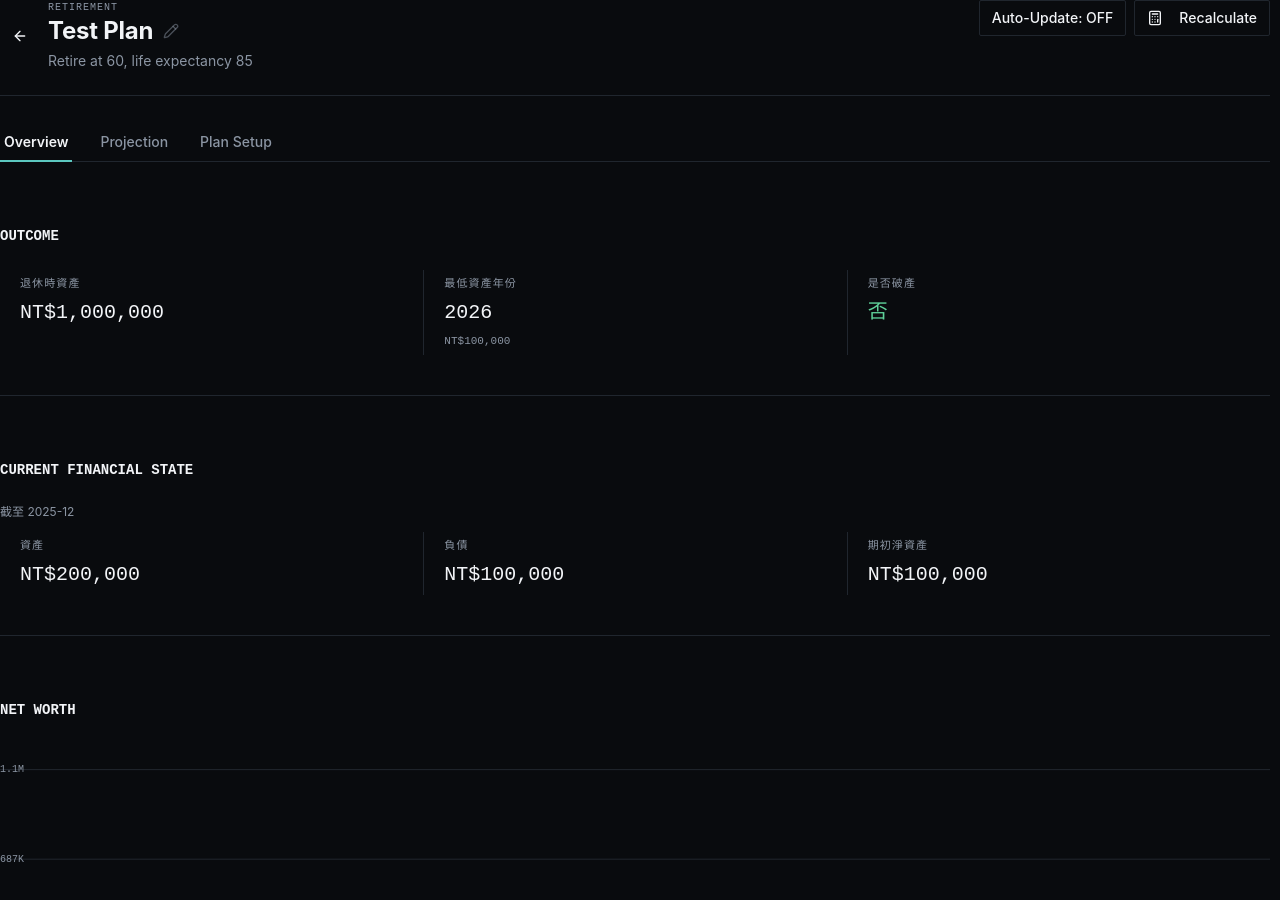
Test: RetirementPlanForm - Scenario Workspace › shows plan inflation as the growth default when the expense dialog opens
Press the mouse on the tab "Plan Setup" at point(236, 145), box [196,128,276,162]
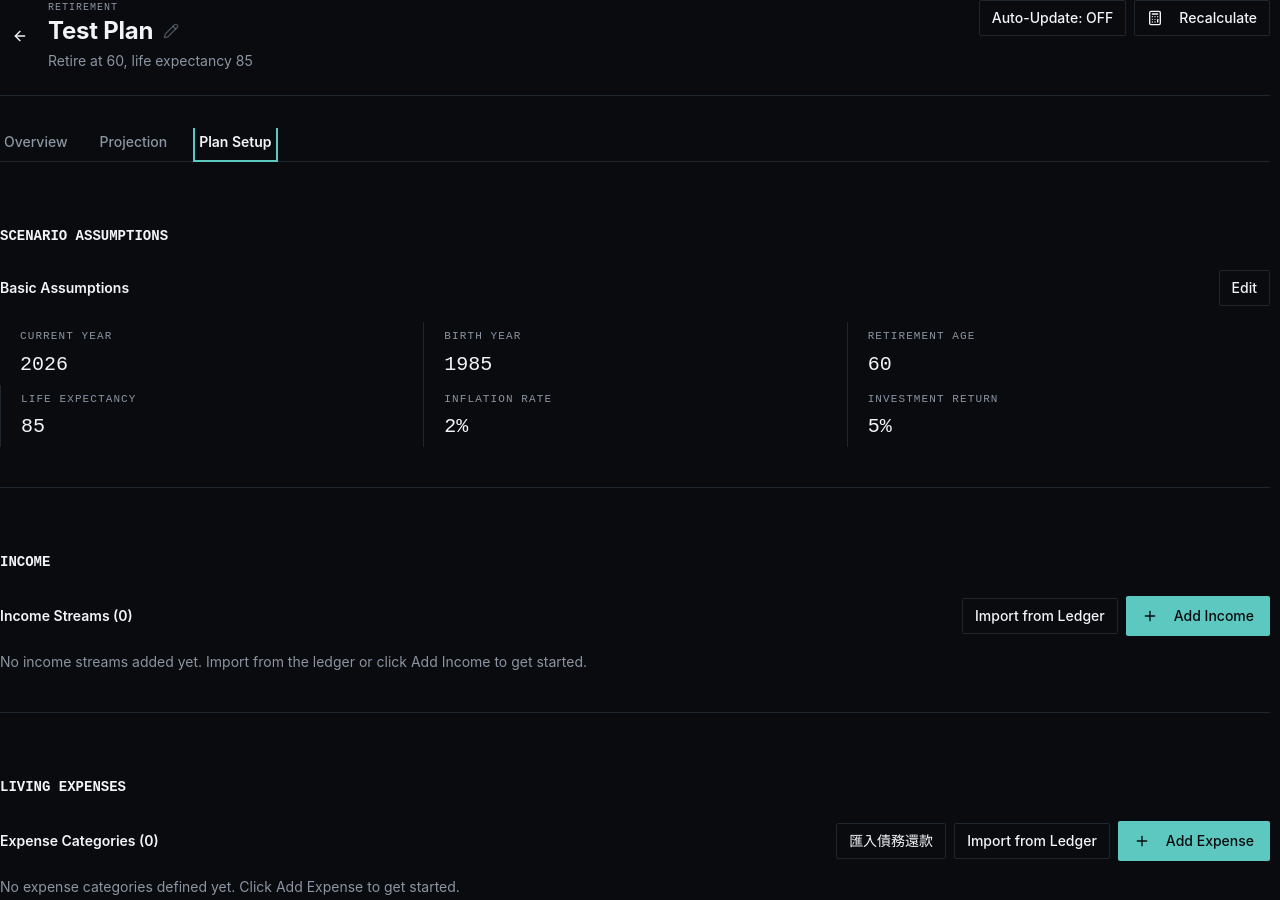
Click the button "Add Expense" at point(1194, 841), box [1118,821,1270,861]
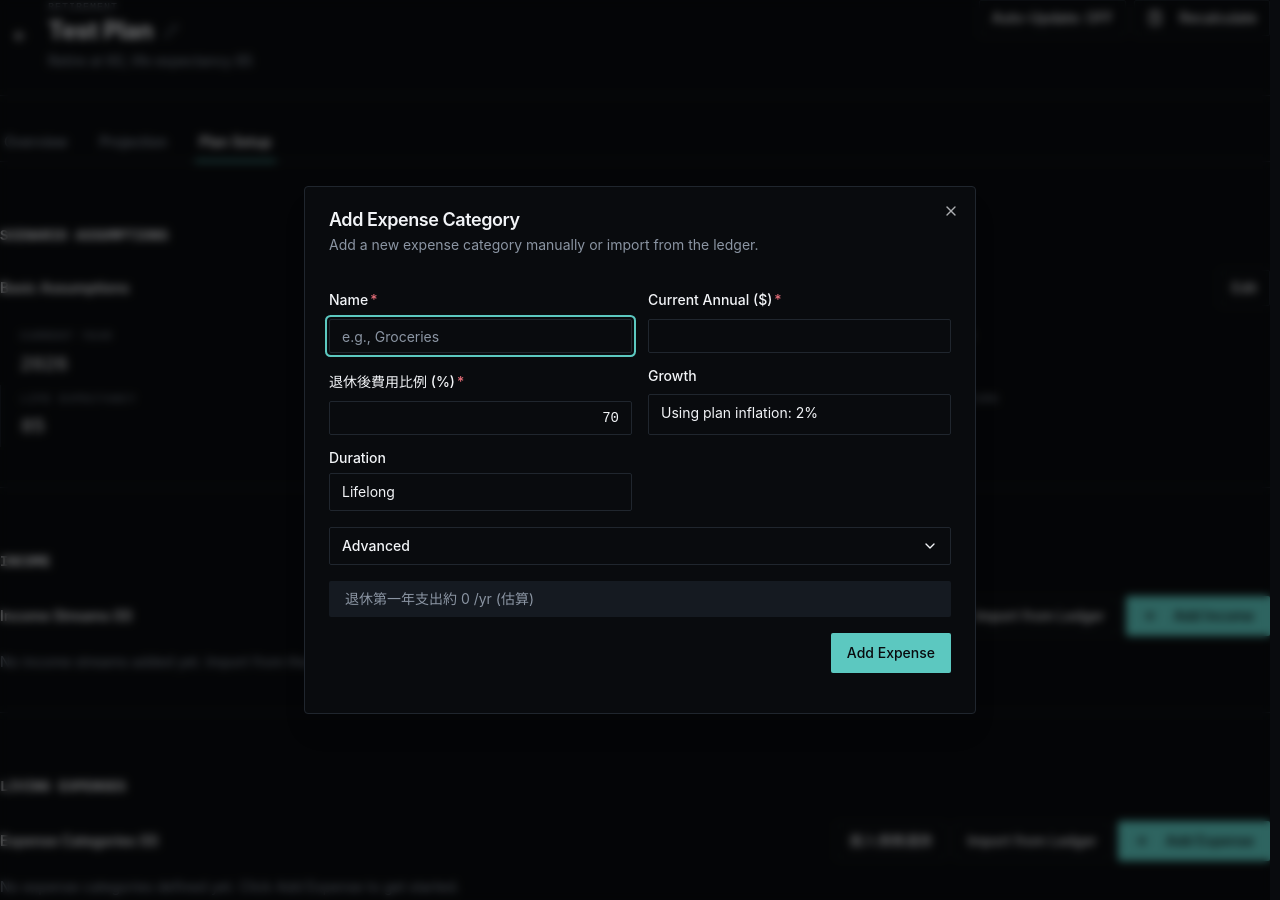
Result: the text "Using plan inflation: 2%" is shown at [648,394,951,435]
